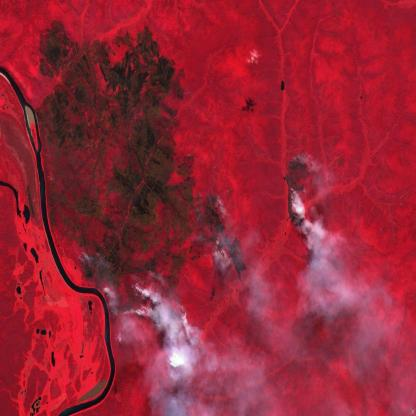fire: (76, 188, 249, 338), (282, 146, 319, 222)
